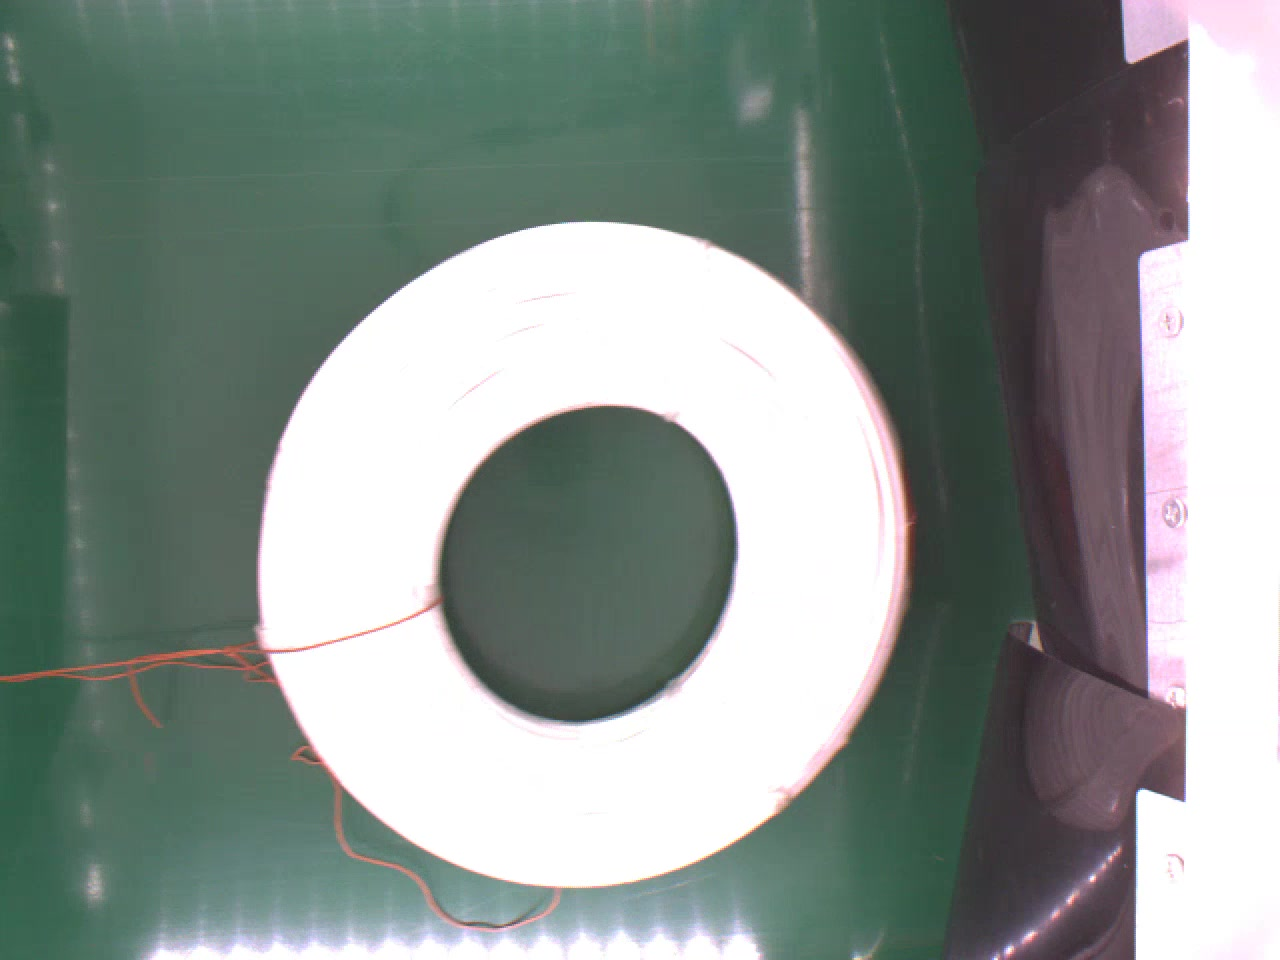white: (257, 217, 935, 888)
